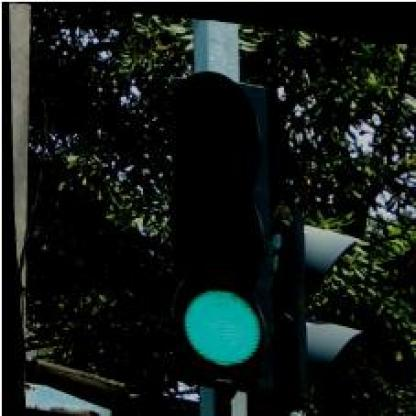green: (158, 72, 282, 390)
